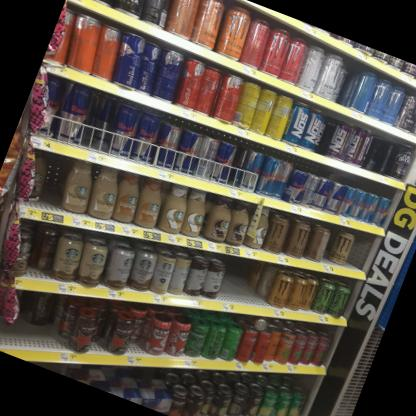empty_space: (38, 152, 73, 214), (215, 254, 247, 304), (251, 261, 284, 309), (235, 259, 264, 306), (344, 230, 377, 271), (0, 288, 21, 348)
